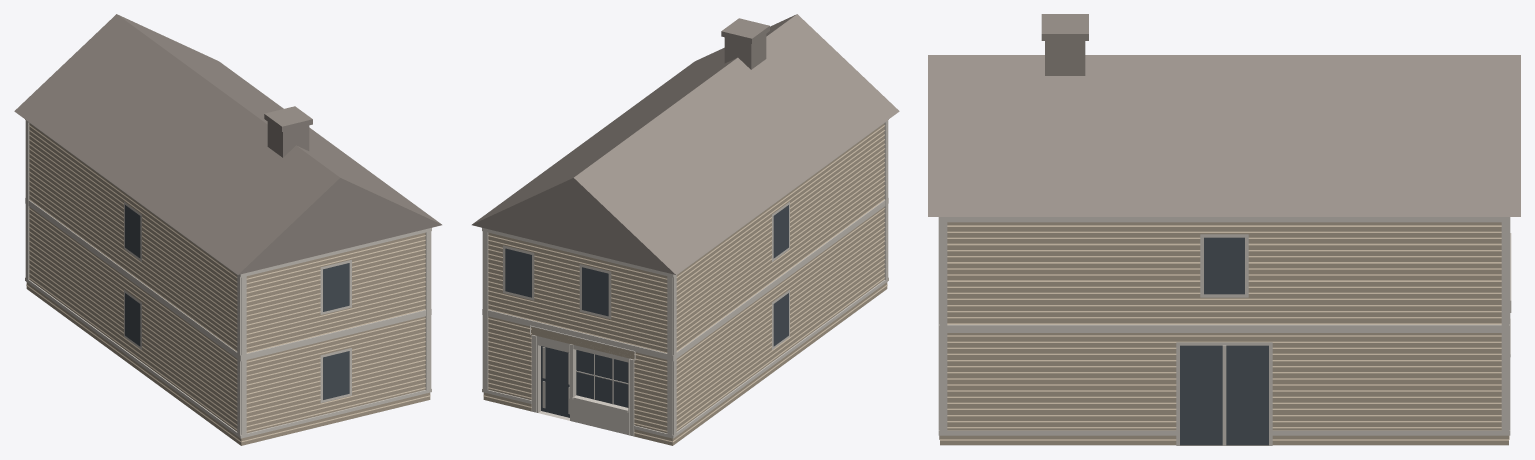
Rendered from recon_1835_south_c3_037__inferred_1835.glb.
3 views of the same model, side by side, from view 1: azimuth 30°, elevation 25°; view 2: azimuth 150°, elevation 25°; view 3: azimuth 270°, elevation 25° (orthographic). The views are drawn at different scales.
Parts seen in each view (by area): view 1: recon_1835_south_c3_037__inferred_1835; view 2: recon_1835_south_c3_037__inferred_1835; view 3: recon_1835_south_c3_037__inferred_1835.
Boxes of the visible parts, bbox=[...] form: recon_1835_south_c3_037__inferred_1835: bbox=[14, 14, 441, 445]; recon_1835_south_c3_037__inferred_1835: bbox=[472, 14, 899, 445]; recon_1835_south_c3_037__inferred_1835: bbox=[928, 14, 1520, 445].
Bounding box in the file's own units: 6.51 × 8.26 × 12.31.
